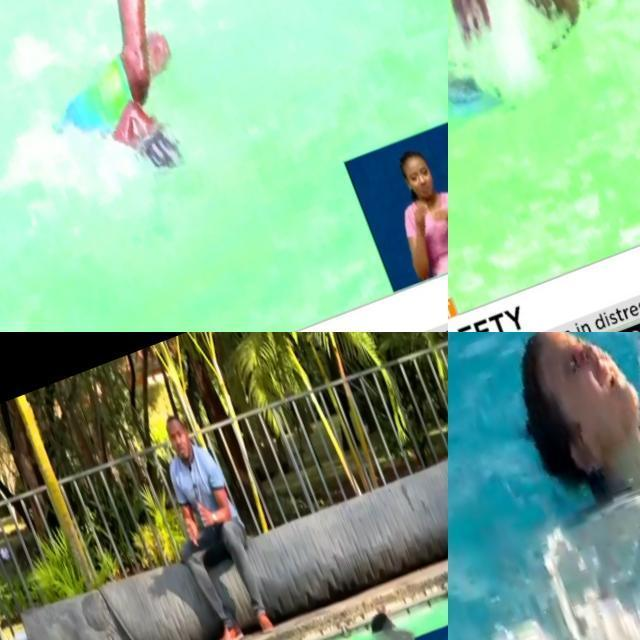3: (452, 332, 640, 588)
6: (0, 0, 284, 239), (448, 0, 635, 176), (351, 596, 426, 640)
drowning: (135, 386, 300, 640)
